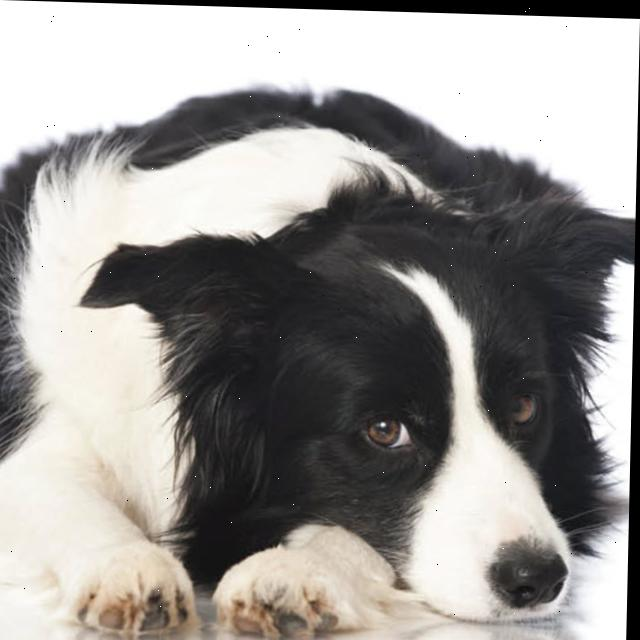BORDER_COLLIE: (0, 72, 639, 640)
